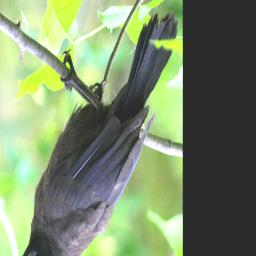Crow: (5, 10, 180, 256)
